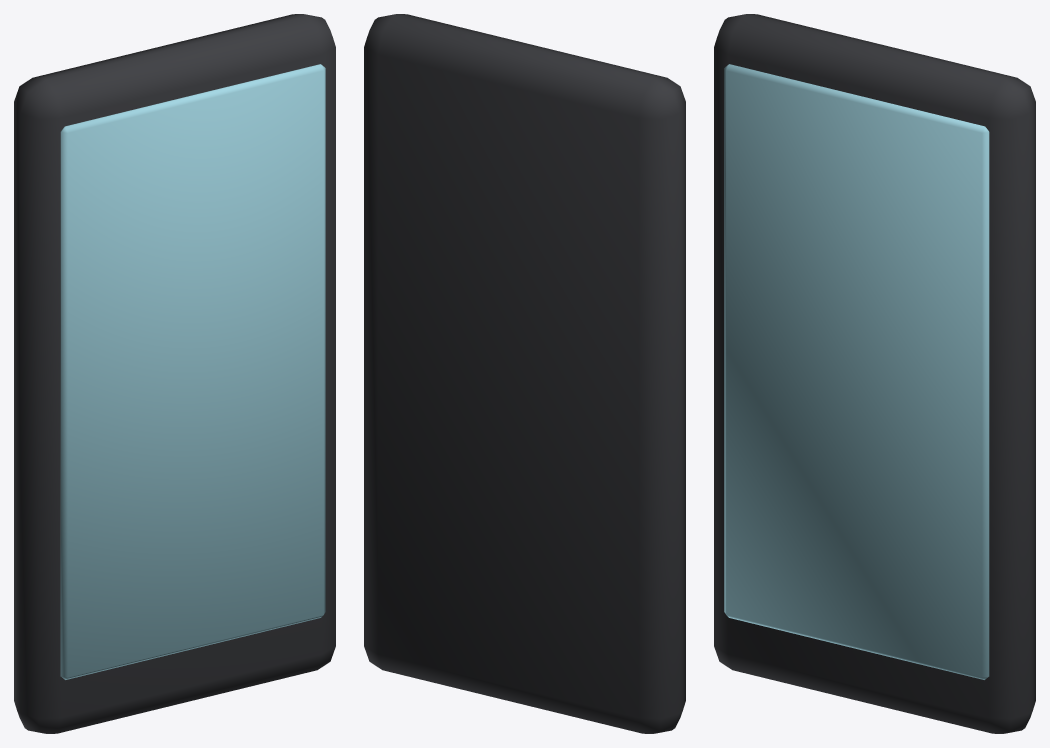
The model's file is hand_phone.glb.
3 renders of one model, left to right at view 1: azimuth 30°, elevation 25°; view 2: azimuth 150°, elevation 25°; view 3: azimuth 330°, elevation 25°, orthographic.
Parts seen in each view (by area): view 1: hand_phone; view 2: hand_phone; view 3: hand_phone.
Boxes of the visible parts, x1,y1,x2,y2 form: hand_phone: [14, 14, 335, 733]; hand_phone: [364, 14, 685, 733]; hand_phone: [714, 14, 1035, 733].
Bounding box in the file's own units: 0.065 × 0.13 × 0.0135.
1 material, 1 textured.
